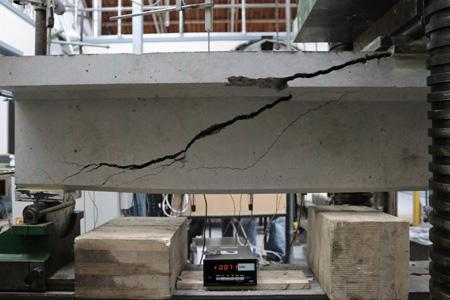crack: (61, 93, 293, 186), (191, 88, 363, 171), (285, 52, 392, 82), (35, 167, 57, 185)
damage: (225, 76, 288, 91)
